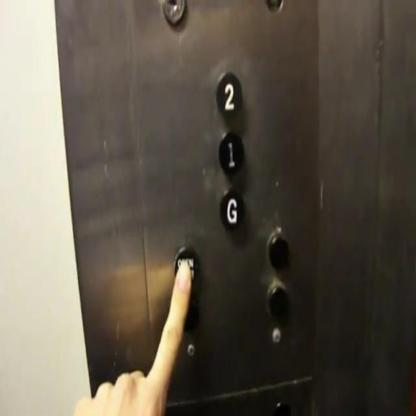1: (218, 131, 244, 174)
2: (215, 71, 241, 117)
G: (219, 187, 245, 231)
indicator: (266, 231, 288, 269), (266, 283, 289, 318)
